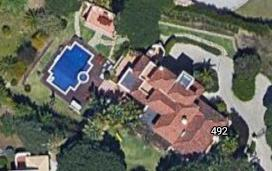pool: (46, 40, 95, 96)
